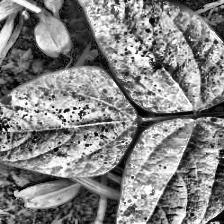Bean Rust: (78, 0, 224, 114), (0, 66, 134, 176), (108, 117, 224, 224)
